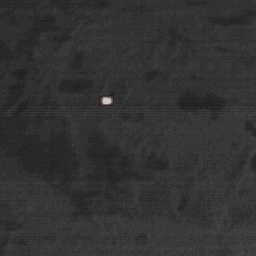Target: (99, 96, 115, 107)
